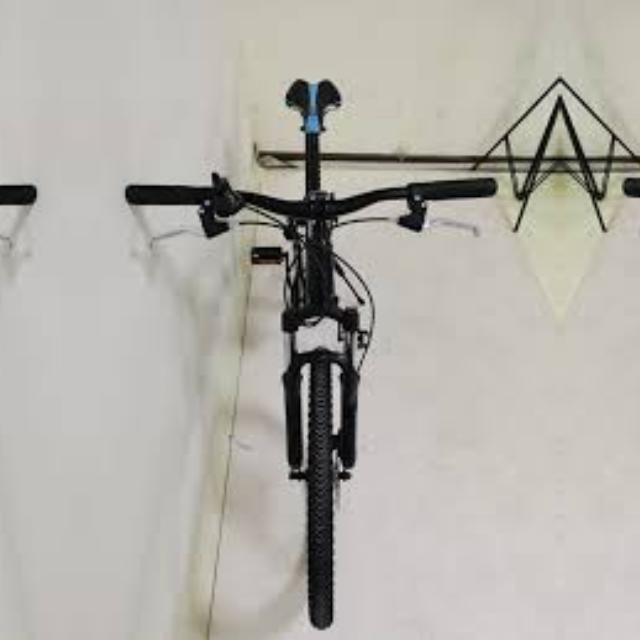obstacle: (122, 160, 510, 640), (0, 160, 37, 640), (608, 160, 640, 640)
